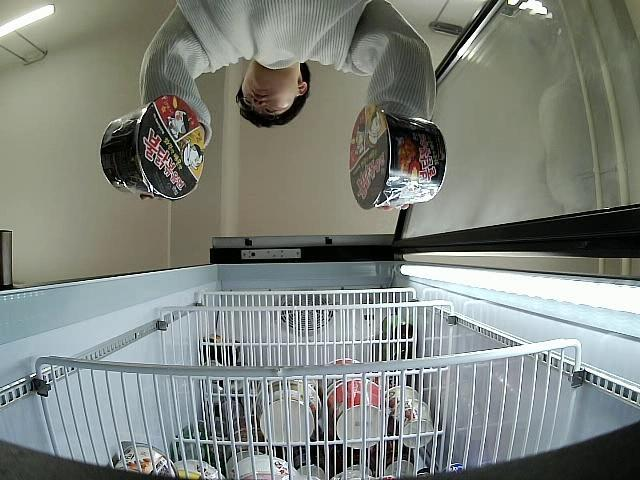07_buldak_L: (100, 95, 204, 201), (350, 104, 446, 210)
